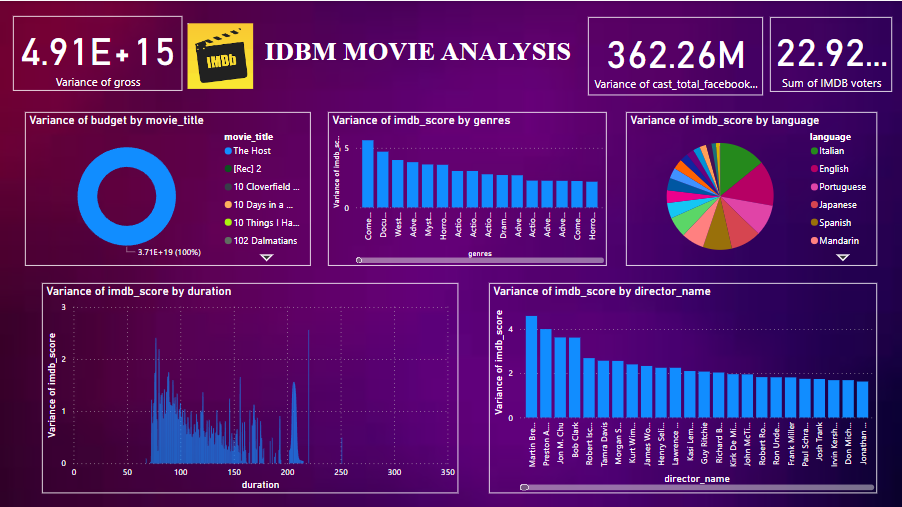

The page's visual inventory and layout, read from the dashboard file:
{"tool":"powerbi","page":{"name":"Page 2","canvas":[1280,720],"ordinal":1},"visuals":[{"type":"columnChart","fields":{"Y":["IMDB_Movies.imdb_score"],"Category":["IMDB_Movies.genres"]},"box":[467.7,157.3,395.4,218.3],"z":0},{"type":"ribbonChart","fields":{"Y":["IMDB_Movies.imdb_score"],"Category":["IMDB_Movies.duration"]},"box":[62.4,399.7,589.6,297.6],"z":1},{"type":"pieChart","fields":{"Category":["IMDB_Movies.language"],"Y":["IMDB_Movies.imdb_score"]},"box":[890.1,157.3,355.7,218.3],"z":2},{"type":"columnChart","fields":{"Y":["IMDB_Movies.imdb_score"],"Category":["IMDB_Movies.director_name"]},"box":[695.9,399.7,549.9,297.6],"z":3},{"type":"donutChart","fields":{"Category":["IMDB_Movies.movie_title"],"Y":["IMDB_Movies.budget"]},"box":[38.3,157.3,405.4,218.3],"z":4},{"type":"card","fields":{"Values":["IMDB_Movies.num_voted_users"]},"box":[1094.2,22.7,172.9,106.3],"z":5},{"type":"card","fields":{"Values":["IMDB_Movies.cast_total_facebook_likes"]},"box":[836.2,22.7,248,110.6],"z":6},{"type":"card","fields":{"Values":["IMDB_Movies.gross"]},"box":[21.3,21.3,239.5,106.3],"z":7},{"type":"textbox","box":[367.1,43.9,456.4,83.6],"z":8},{"type":"image","box":[263.6,15.6,103.5,124.7],"z":9}]}

Visuals, with their boxes in screenshot pixels (x1, y1, x2, y2), scaled from the page's 1280x720 canvas onto the 902x507 screenshot:
columnChart - IMDB_Movies.imdb_score x IMDB_Movies.genres: detection(330, 111, 608, 264)
ribbonChart - IMDB_Movies.imdb_score x IMDB_Movies.duration: detection(44, 281, 459, 491)
pieChart - IMDB_Movies.language x IMDB_Movies.imdb_score: detection(627, 111, 878, 264)
columnChart - IMDB_Movies.imdb_score x IMDB_Movies.director_name: detection(490, 281, 878, 491)
donutChart - IMDB_Movies.movie_title x IMDB_Movies.budget: detection(27, 111, 313, 264)
card - IMDB_Movies.num_voted_users: detection(771, 16, 893, 91)
card - IMDB_Movies.cast_total_facebook_likes: detection(589, 16, 764, 94)
card - IMDB_Movies.gross: detection(15, 15, 184, 90)
textbox: detection(259, 31, 580, 90)
image: detection(186, 11, 259, 99)
